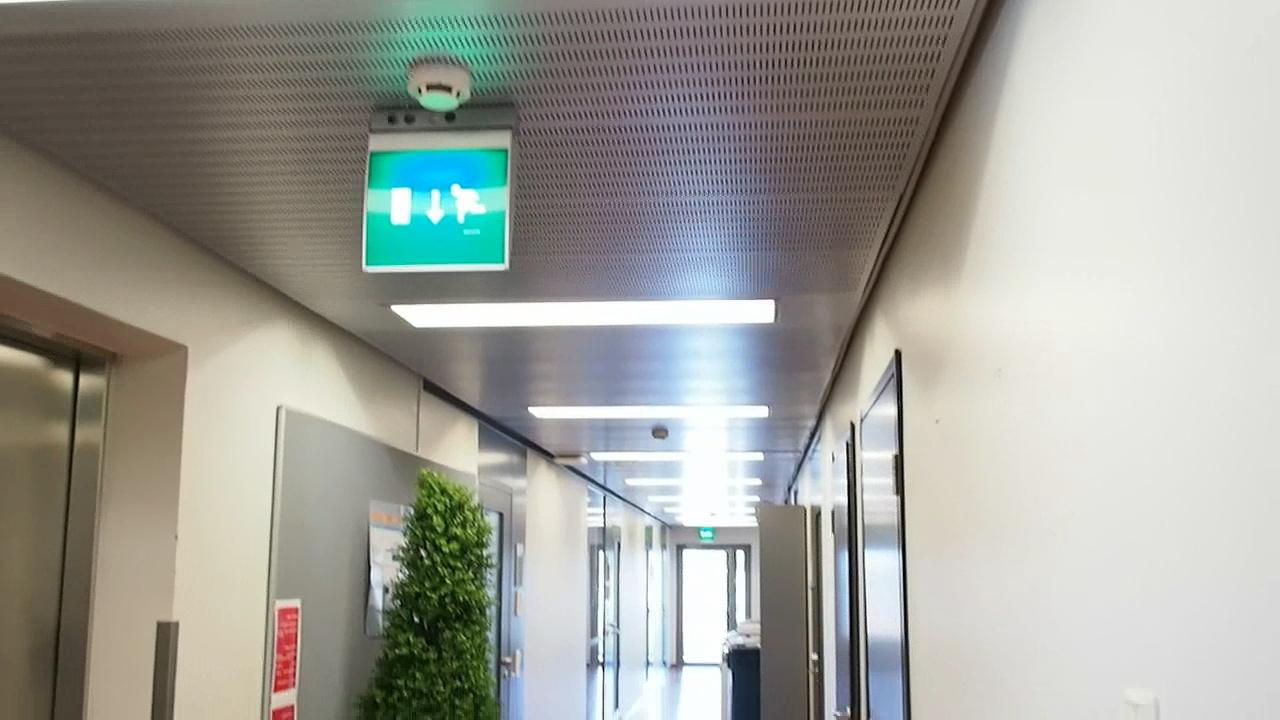exit: (359, 143, 511, 273)
